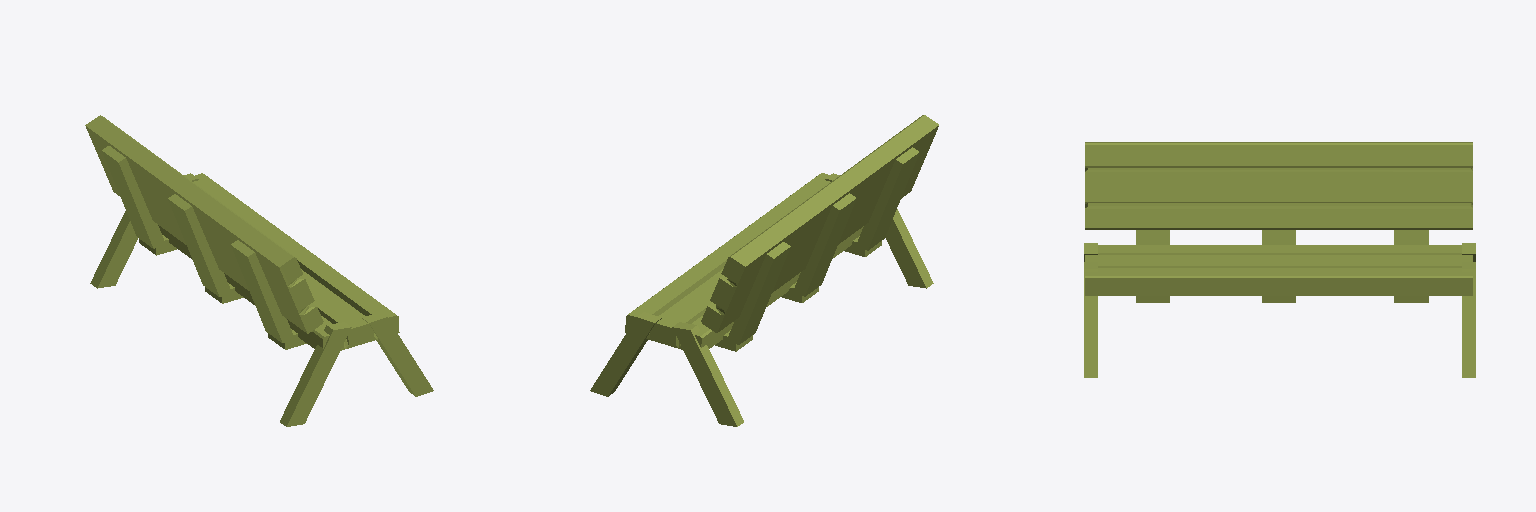
File: bench.obj
The picture shows the model from 3 angles: view 1: azimuth 30°, elevation 25°; view 2: azimuth 150°, elevation 25°; view 3: azimuth 270°, elevation 25°; orthographic projection.
Parts seen in each view (by area): view 1: Box001; view 2: Box001; view 3: Box001.
Boxes of the visible parts, <box> form: Box001: <box>85,115,433,426</box>; Box001: <box>590,115,938,426</box>; Box001: <box>1084,142,1475,377</box>.
Size of the model in its own units: 82.91 by 83.26 by 176.